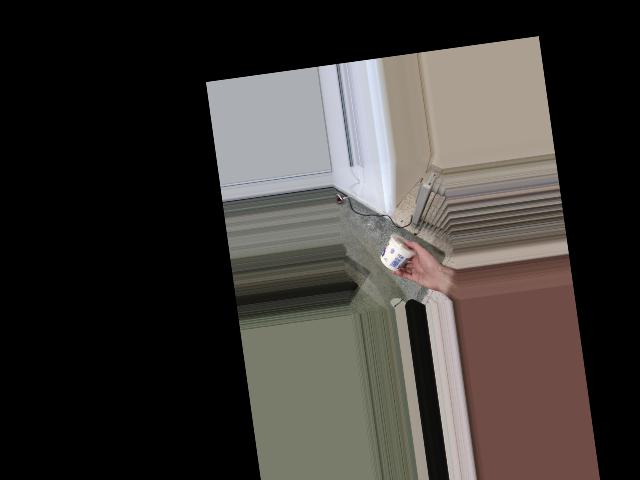cotage: (376, 229, 419, 275)
